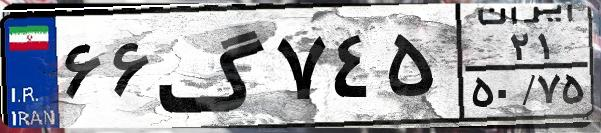0: (495, 70, 520, 125)
1: (537, 27, 568, 80)
2: (508, 27, 537, 80)
4: (330, 28, 385, 110)
5: (385, 28, 445, 110), (560, 70, 590, 125), (470, 70, 495, 125)
6: (57, 26, 110, 100), (110, 28, 156, 98)
7: (270, 28, 330, 110), (535, 70, 560, 125)
گ: (156, 12, 270, 120)
